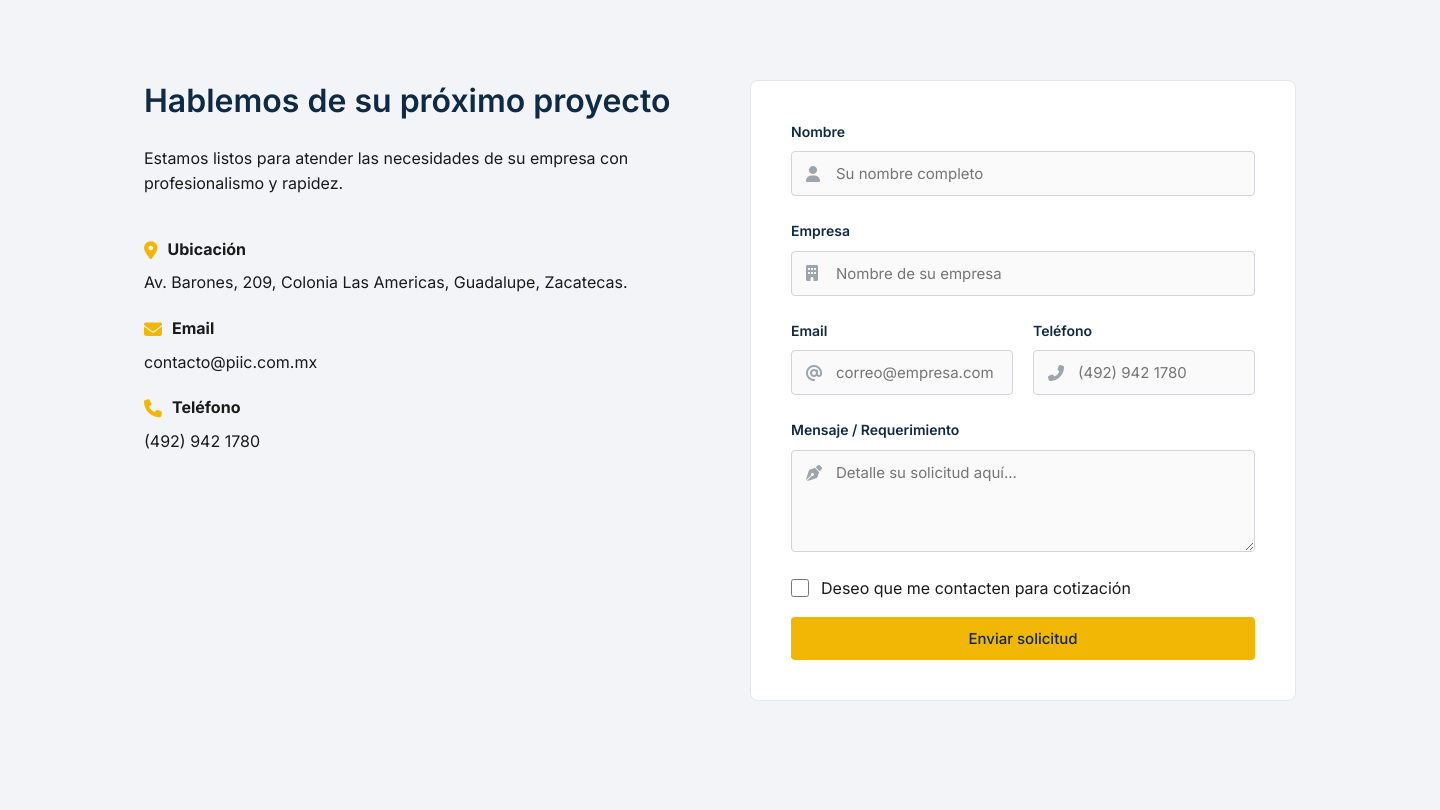
Scenario: Contact Component › handles API errors correctly
// Fill required fields
In the field labelled "Nombre": coordinates (1023, 174) [791,151,1255,196], type "Test User"
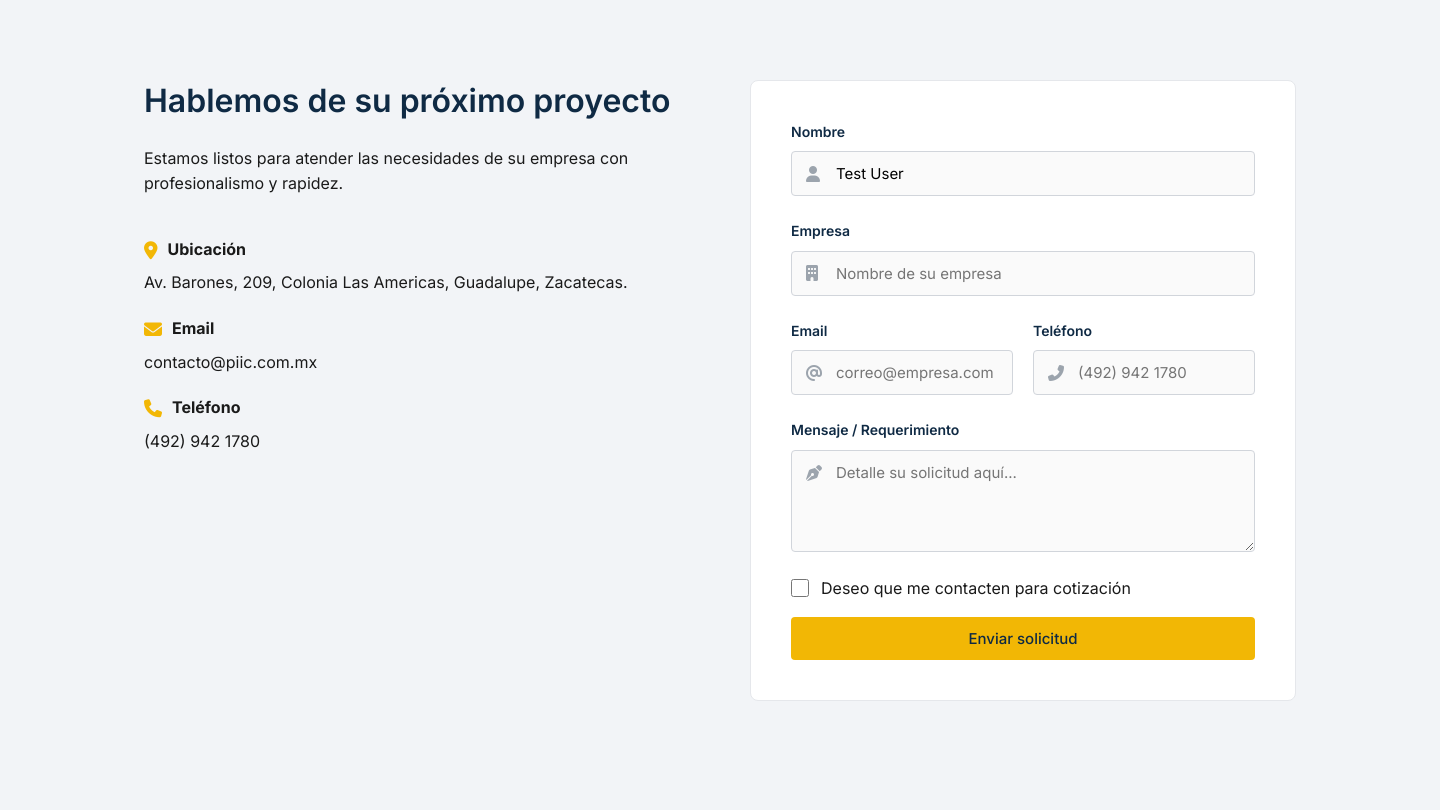
In the field labelled "Empresa": coordinates (1023, 273) [791,251,1255,296], type "Test Corp"
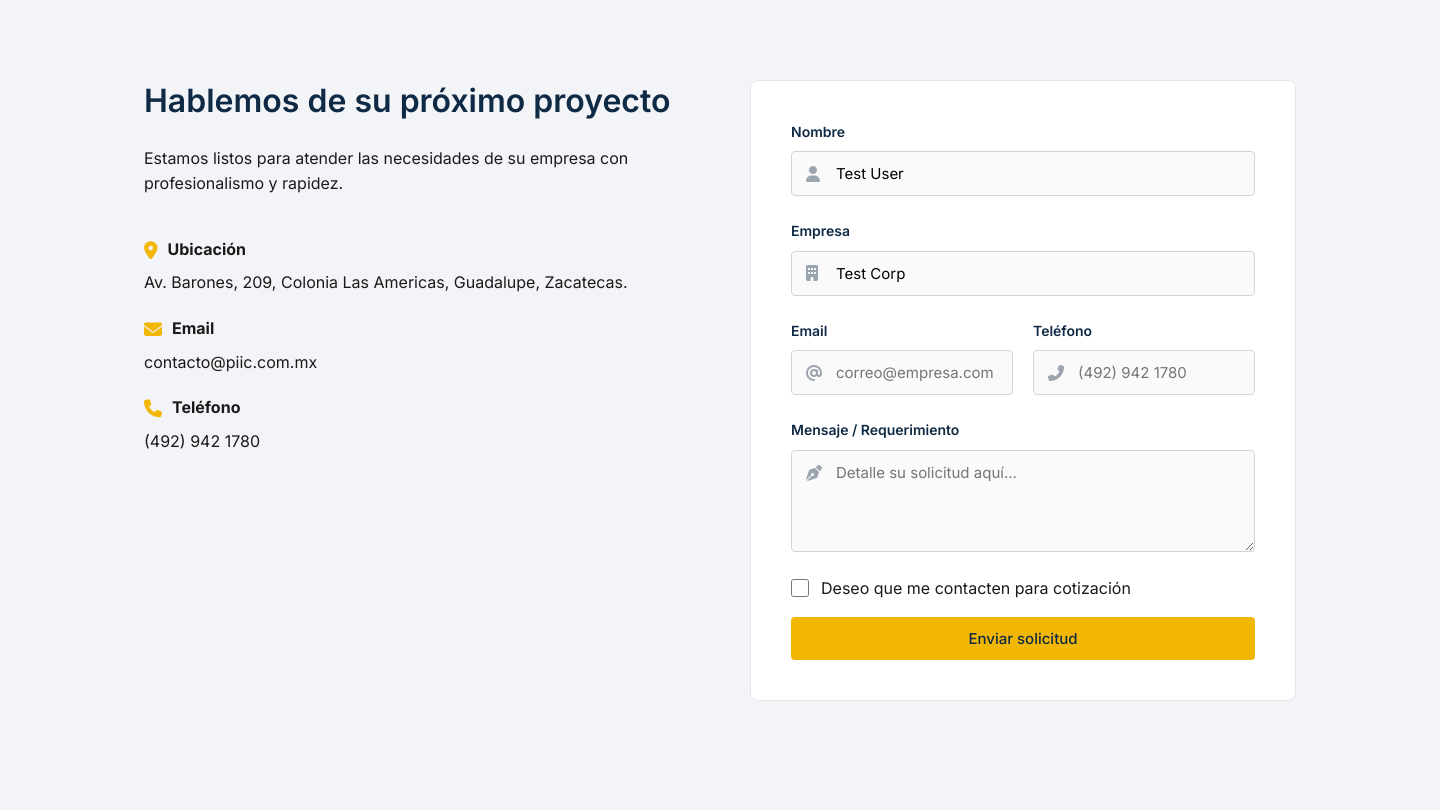
In the field labelled "Email": coordinates (902, 373) [791,350,1013,395], type "test@corp.com"
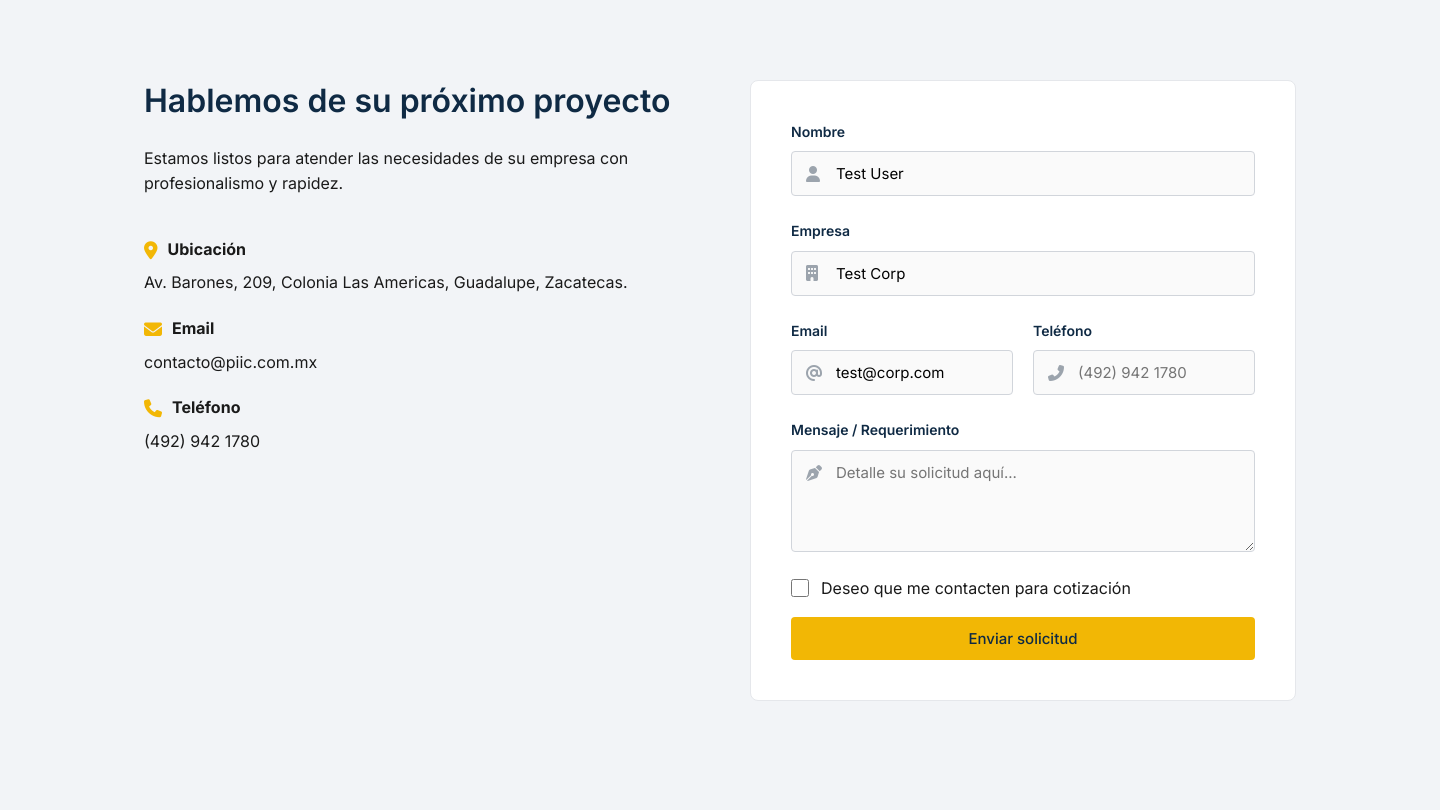
In the text box labelled "Mensaje / Requerimiento": coordinates (1023, 501) [791,450,1255,552], type "Testing error handling"
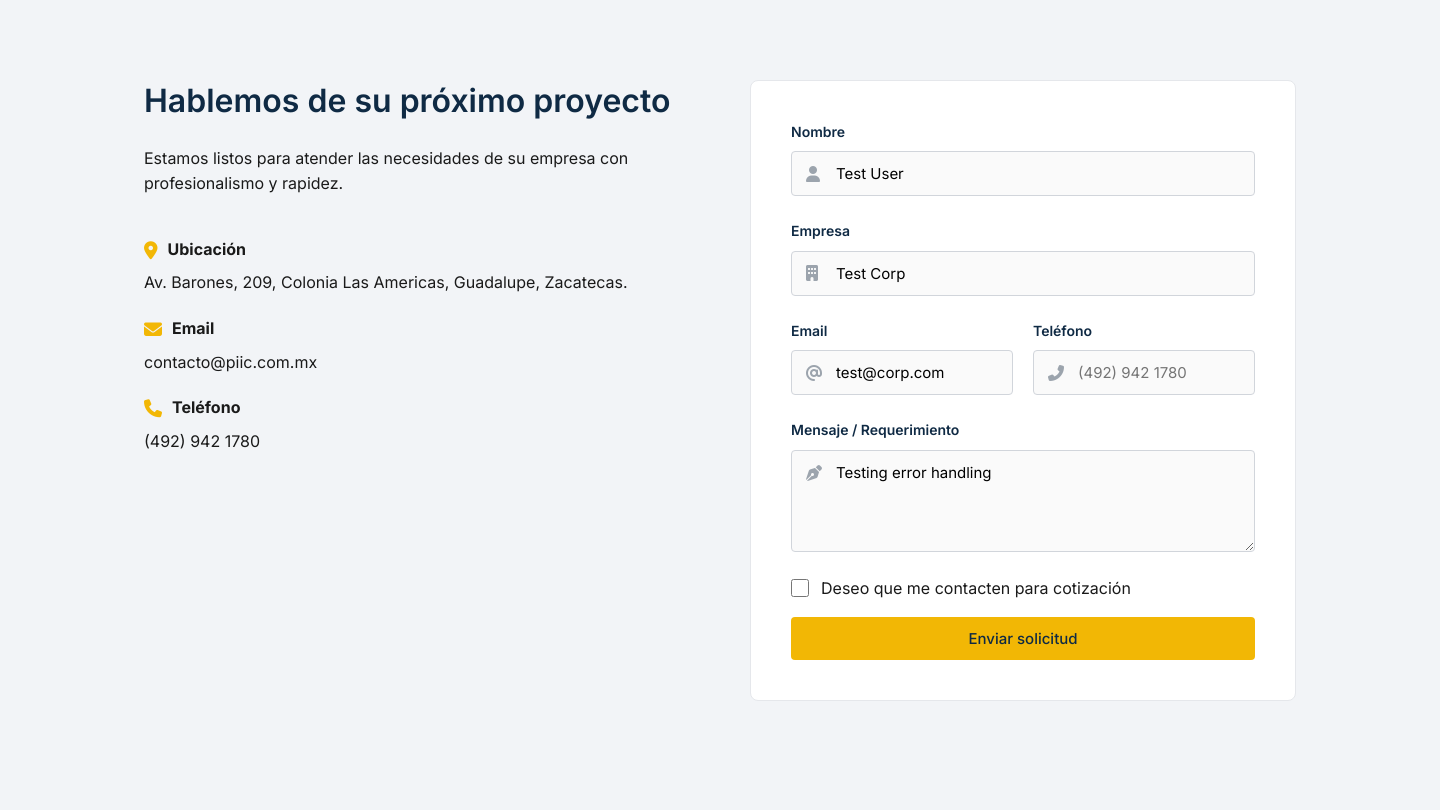
Click the button "Enviar solicitud": coordinates (1023, 639) [791,617,1255,660]
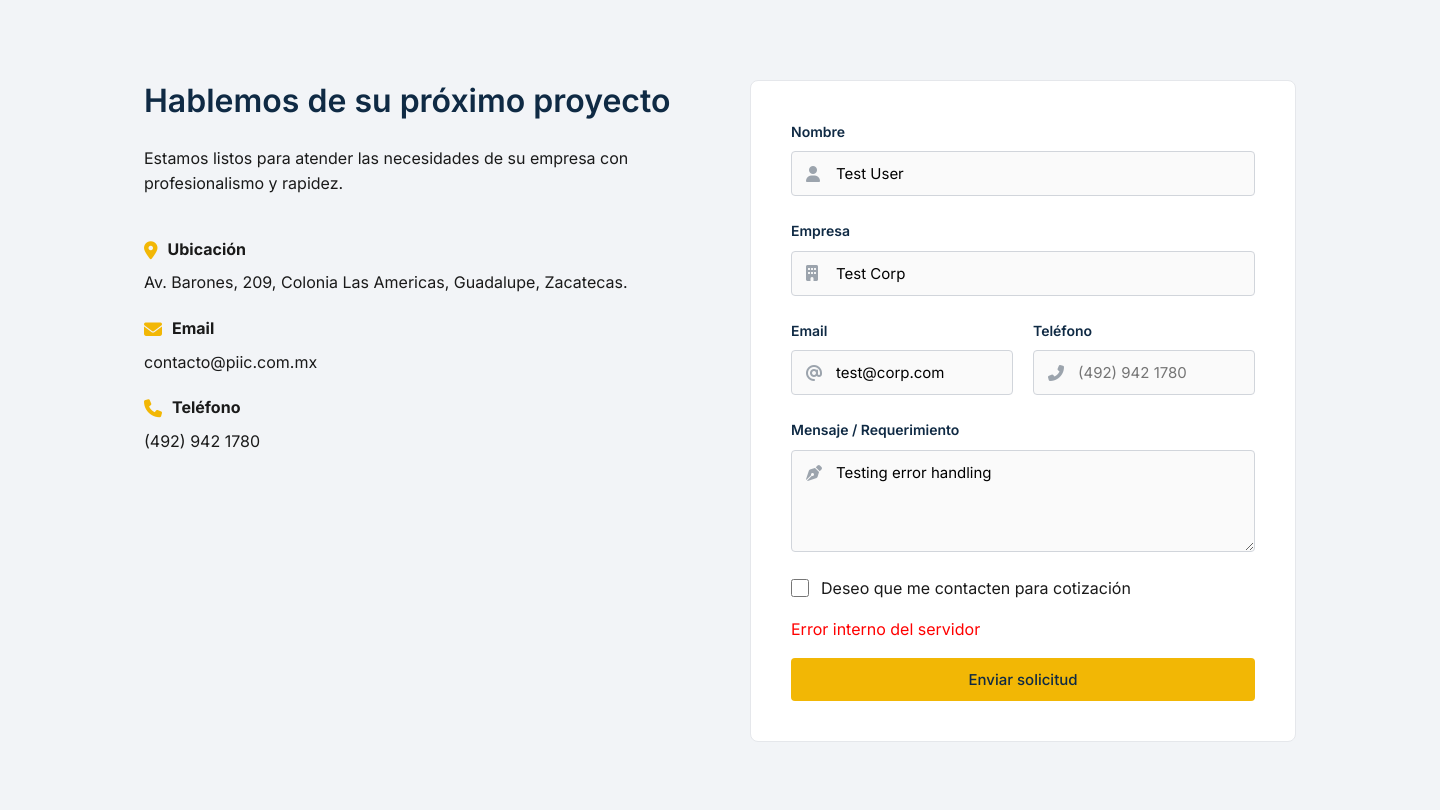
Expected: the text "Error interno del servidor" is shown, [791,619,980,639]
